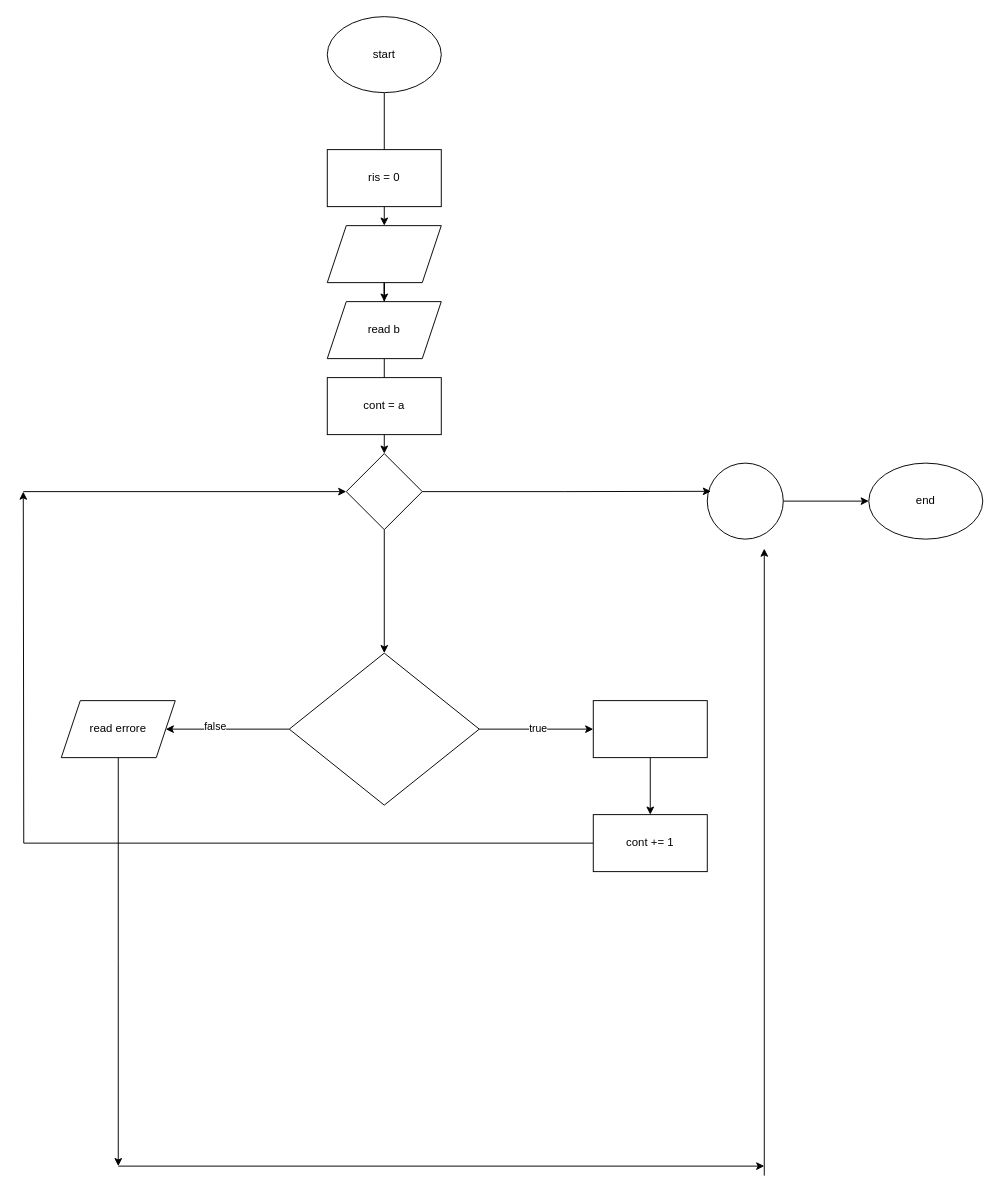
Some shapes in this 999 by 1200 pixel diagram are drawn without their labels. The centre of each missing label's shape, as x and y in pixels:
(a > 0 and b > 0) and ( a %1 == 0 and b % 1 == 0 ) and (a < b): (383,728)
cont > b: (383,491)
read a: (383,254)
ris = ris + cont: (649,729)
